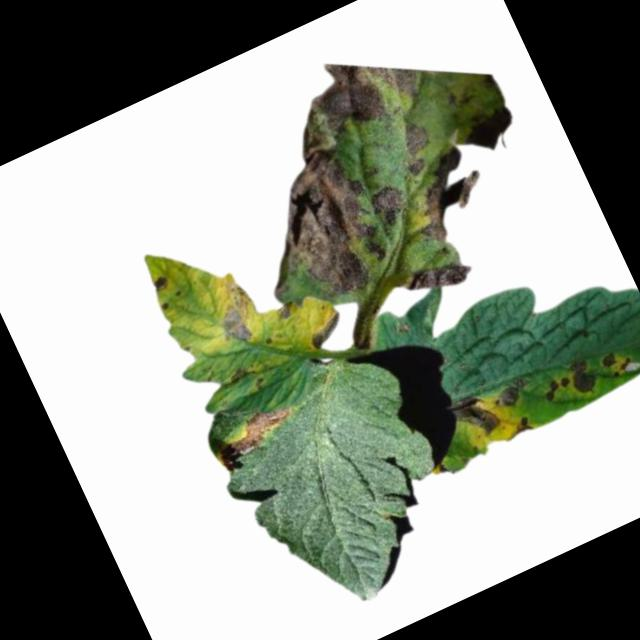Early_blight: (247, 137, 409, 319), (284, 29, 428, 152), (392, 142, 500, 252), (207, 399, 307, 479), (404, 247, 479, 309), (208, 280, 268, 349), (460, 104, 529, 162), (449, 384, 506, 444), (364, 180, 413, 234), (394, 111, 438, 159), (598, 342, 640, 386), (567, 354, 605, 400), (305, 313, 348, 353), (495, 372, 537, 411), (538, 370, 578, 406), (506, 412, 540, 443), (276, 301, 298, 324), (152, 273, 173, 297)
